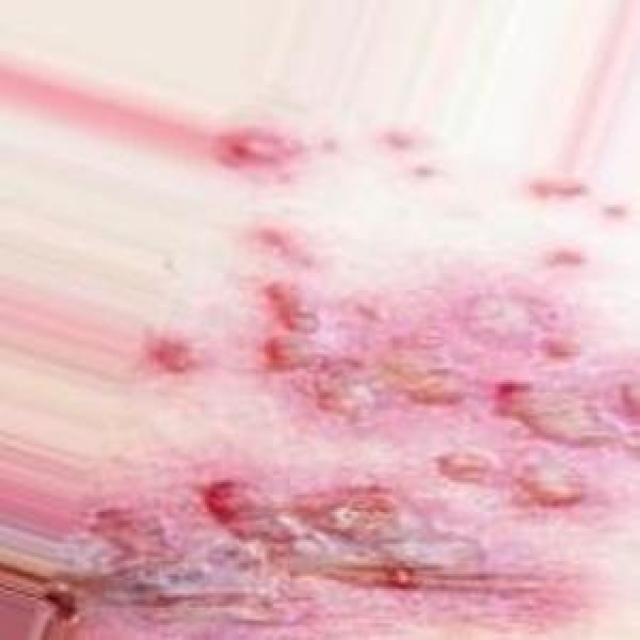Shingles: (154, 122, 620, 543)
